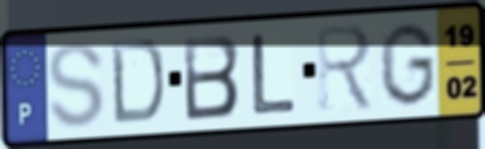B: (180, 32, 243, 124)
D: (108, 36, 167, 127)
G: (376, 20, 438, 110)
L: (250, 31, 300, 117)
R: (313, 21, 378, 114)
S: (45, 39, 108, 132)
